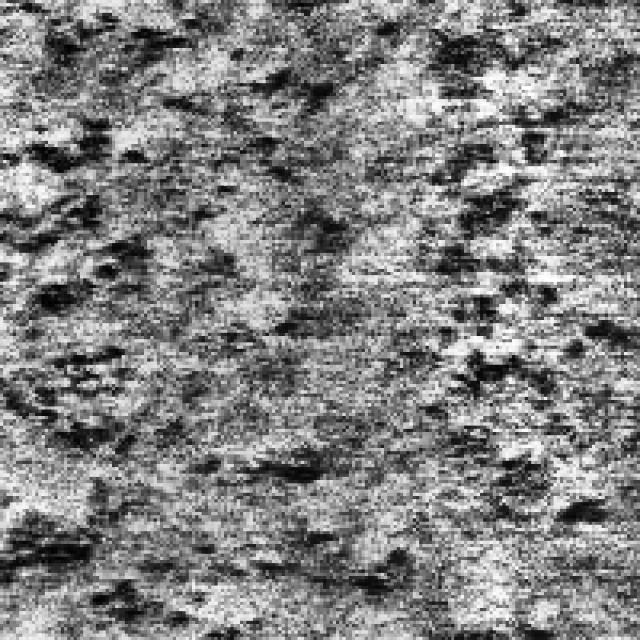Crazing: (0, 102, 170, 586), (426, 288, 618, 528)
